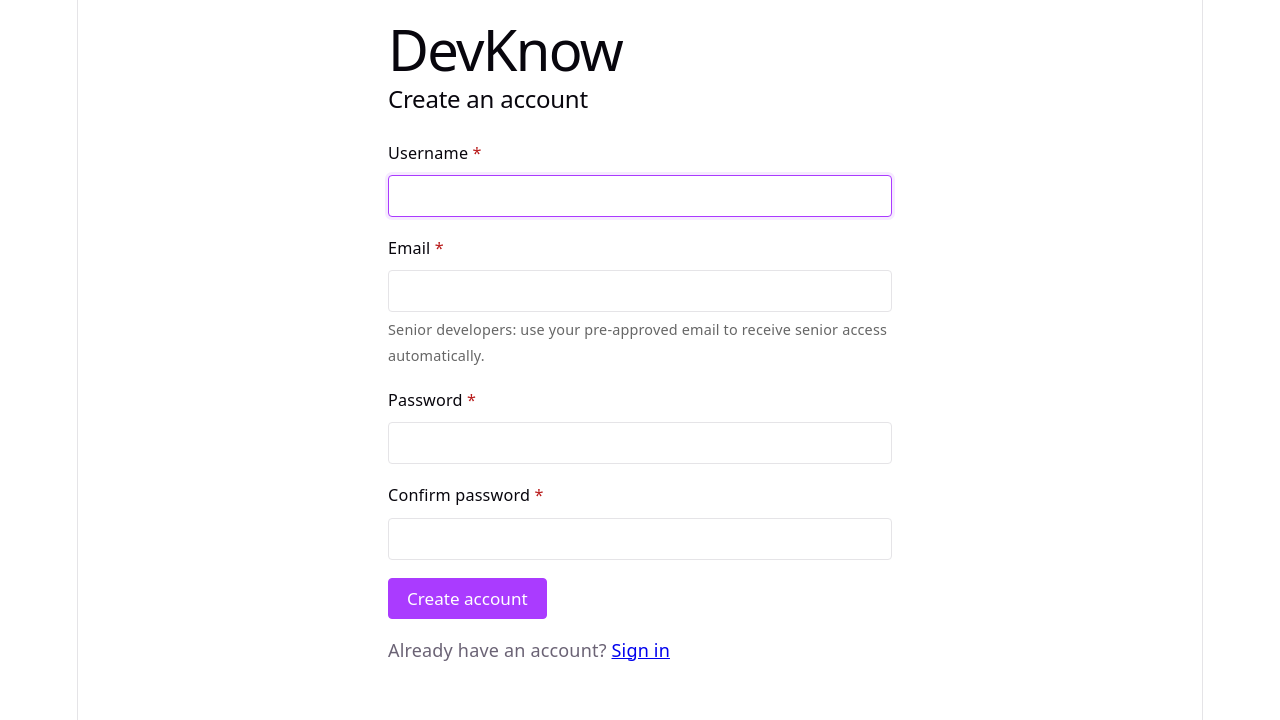
Test case: Register flow › successfully registers and is redirected to login with success message
This screenshot has width=1280, height=720.
Expected: the heading "Create an account" is shown, [388, 82, 588, 115]
Step 1. Type "new_e2e_user" into the field with id "username" → x=640, y=196, box [388, 175, 892, 217]
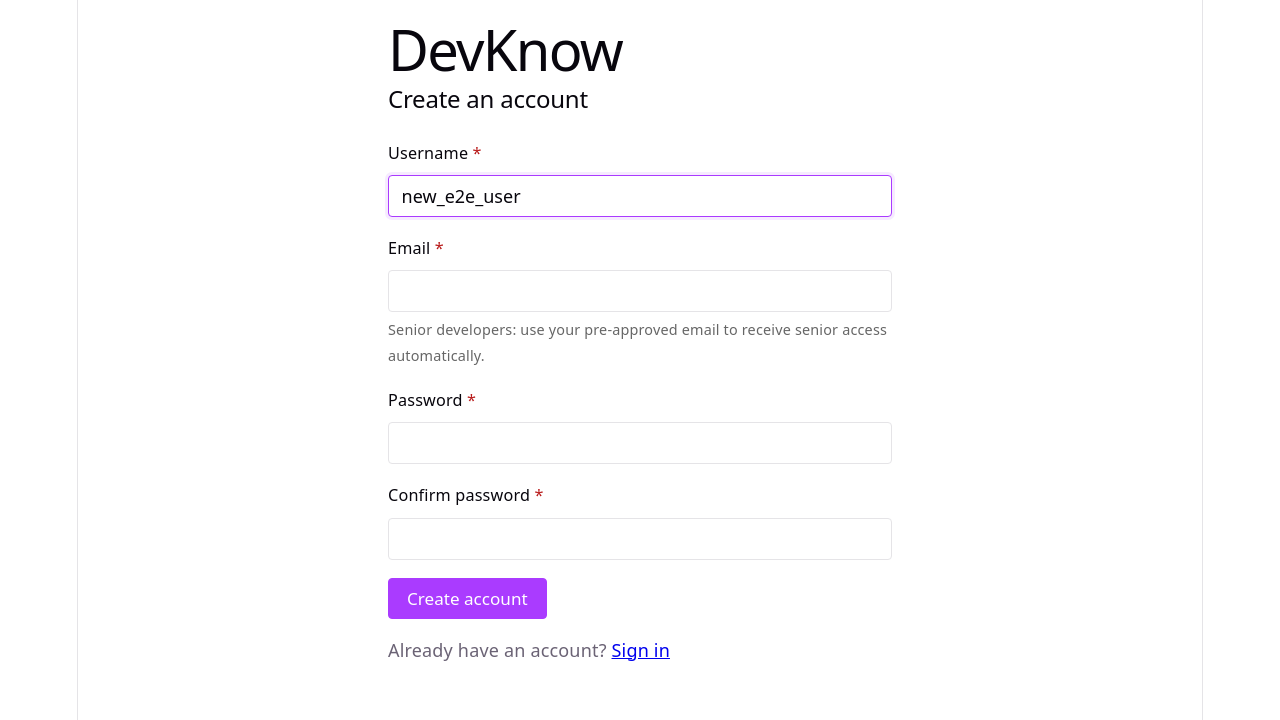
Step 2. Type "new_e2e_user@example.com" into the field with id "email" → x=640, y=291, box [388, 270, 892, 312]
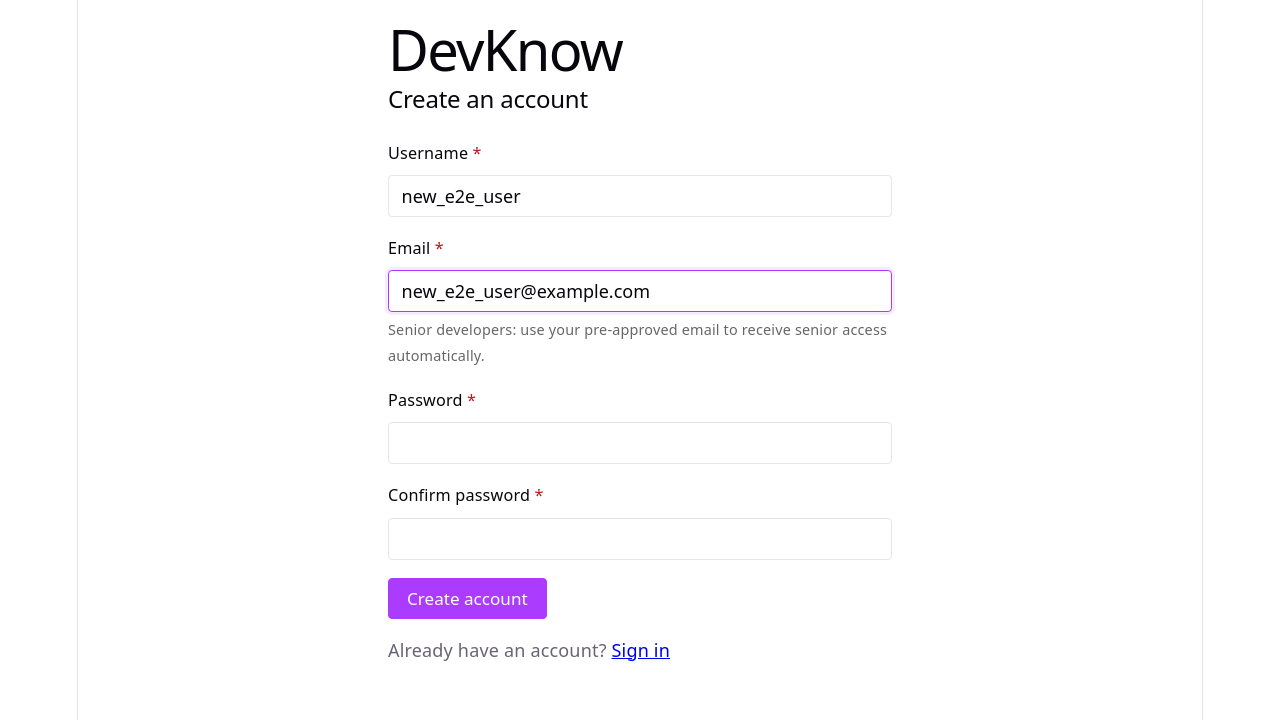
Step 3. Type "securepass1" into the password field labelled "Password" → x=640, y=443, box [388, 422, 892, 464]
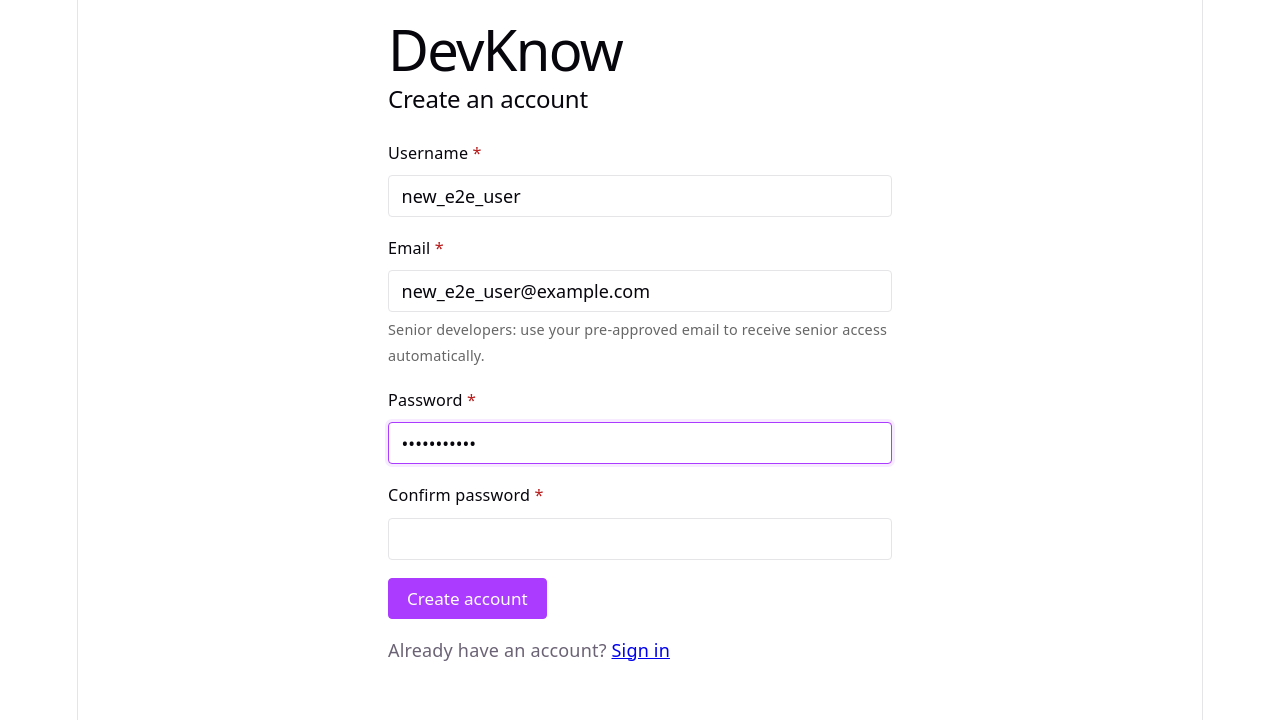
Step 4. Type "securepass1" into the password field labelled "Confirm password" → x=640, y=539, box [388, 518, 892, 560]
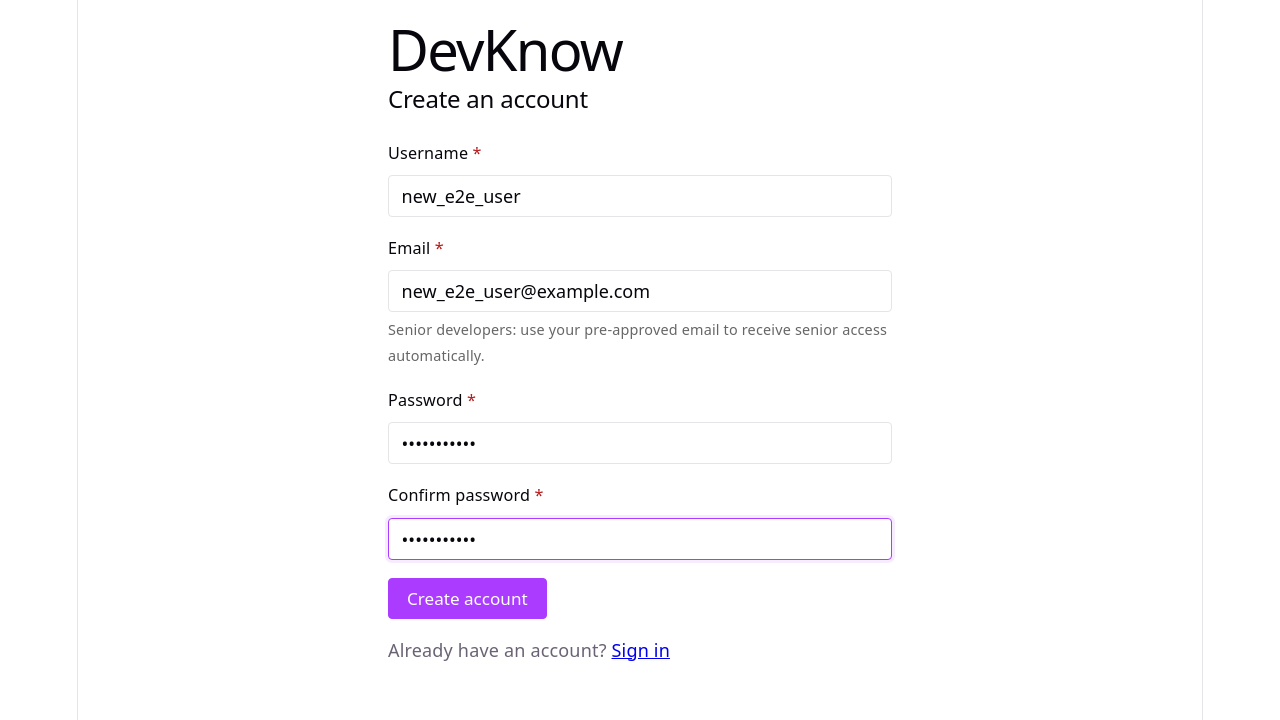
Step 5. Click the button "Create account" → x=468, y=599, box [388, 578, 547, 619]
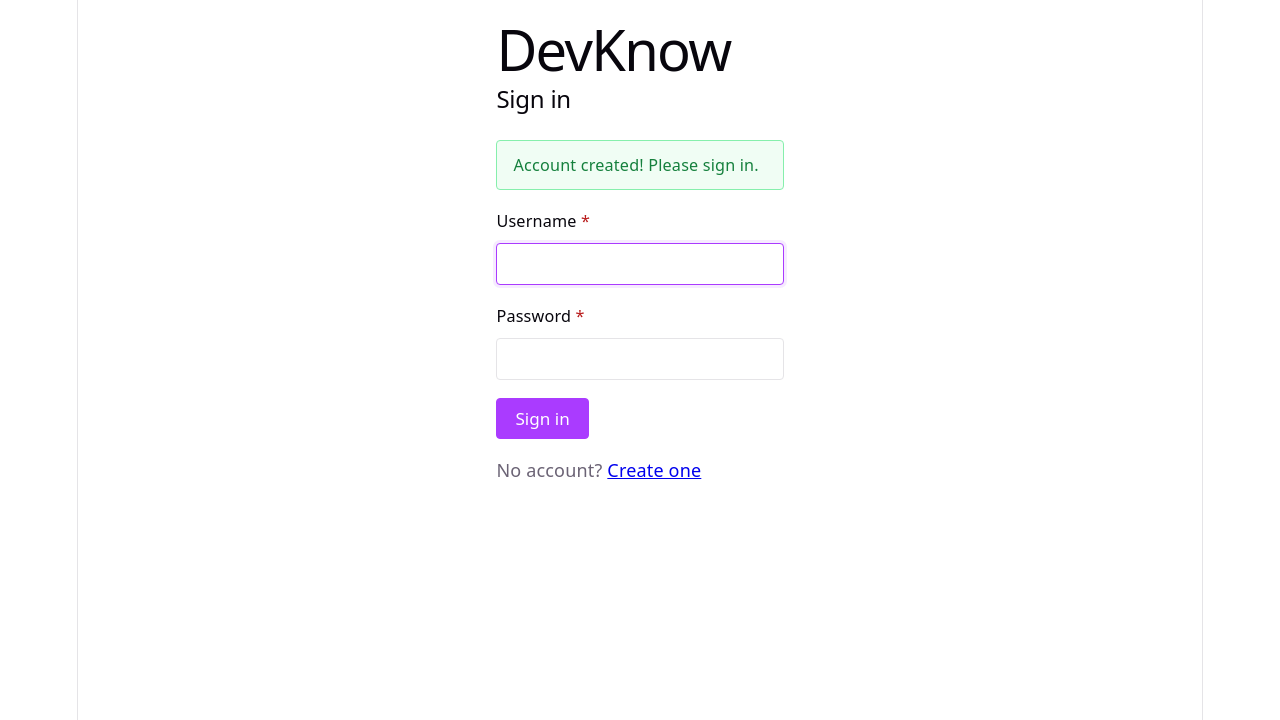
Now the message "Account created! Please sign in." is shown, box [496, 140, 784, 190]
